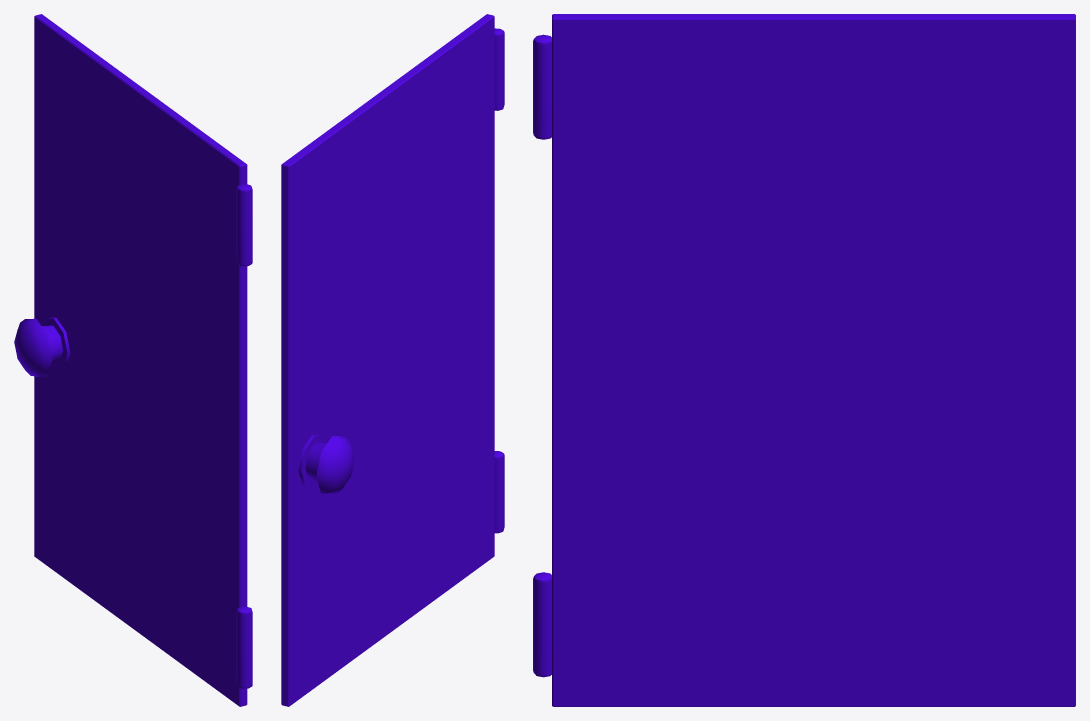
The model's file is Bookcase_01_Door.fbx.
The picture shows the model from 3 angles, left to right: view 1: azimuth 30°, elevation 25°; view 2: azimuth 150°, elevation 25°; view 3: azimuth 270°, elevation 25°; orthographic projection. The views are drawn at different scales.
Parts seen in each view (by area): view 1: Bookcase_01_Door; view 2: Bookcase_01_Door; view 3: Bookcase_01_Door.
Boxes of the visible parts, x1,y1,x2,y2 form: Bookcase_01_Door: [14, 14, 252, 706]; Bookcase_01_Door: [281, 14, 504, 706]; Bookcase_01_Door: [533, 14, 1075, 706].
Size of the model in its own units: 7.69 by 89 by 63.57.
